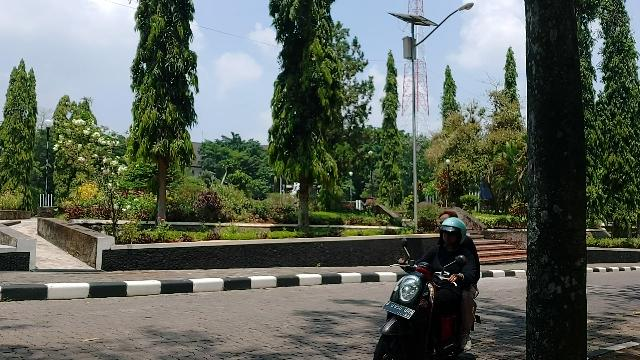helm: (440, 218, 468, 248)
motor: (373, 240, 483, 360)
non-helm: (439, 210, 461, 226)
